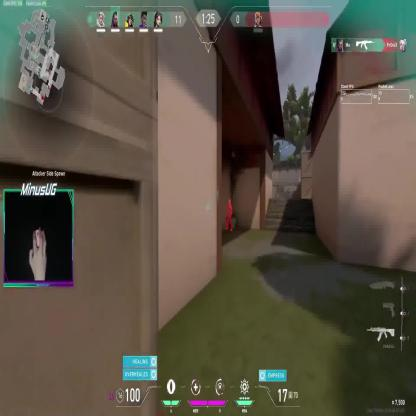enemy: (224, 198, 232, 230)
enemy_head: (228, 198, 231, 206)
